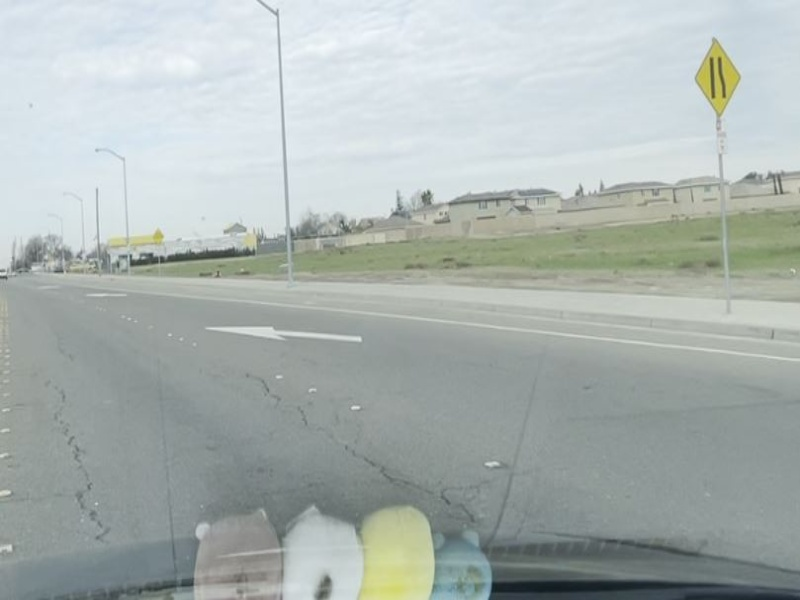merge sign: (692, 38, 743, 116)
